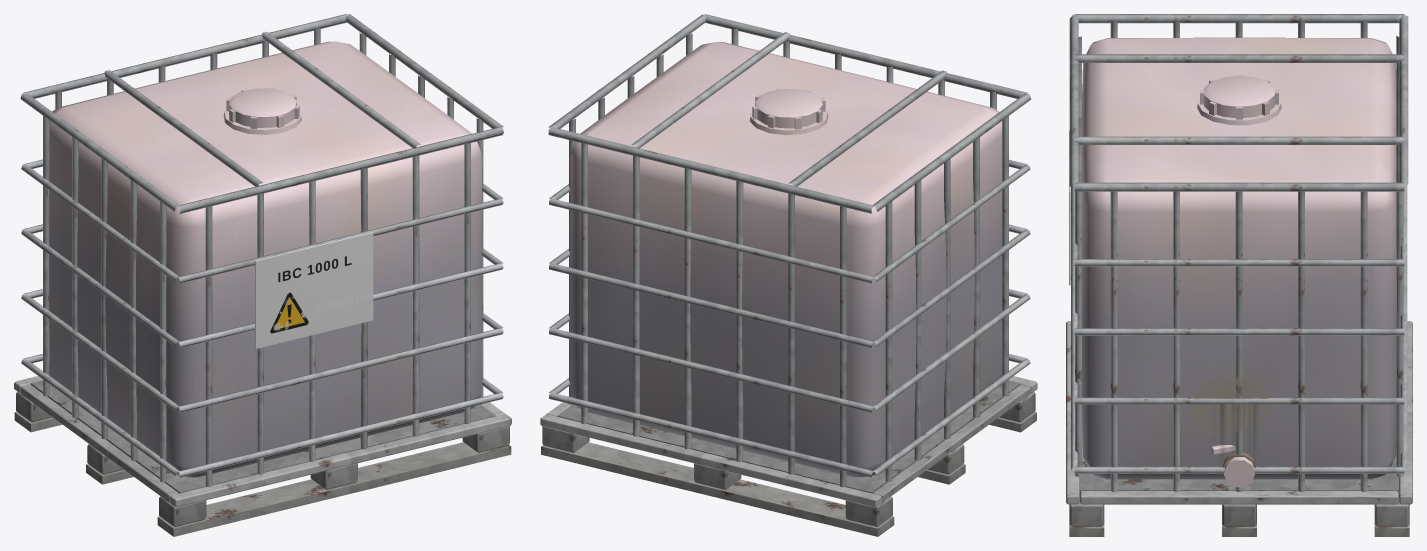
The model's file is ibc_tote.glb.
3 renders of one model, left to right at view 1: azimuth 30°, elevation 25°; view 2: azimuth 150°, elevation 25°; view 3: azimuth 270°, elevation 25°, orthographic. The views are drawn at different scales.
Visible parts, largest first — view 1: ibc_tote; view 2: ibc_tote; view 3: ibc_tote.
Part boxes in pixels (x1=…): ibc_tote: x1=14, y1=14, x2=511, y2=536; ibc_tote: x1=540, y1=14, x2=1037, y2=536; ibc_tote: x1=1066, y1=14, x2=1412, y2=536.
Bounding box in the file's own units: 1.2 × 1.14 × 1.
9 materials, 9 textured.
